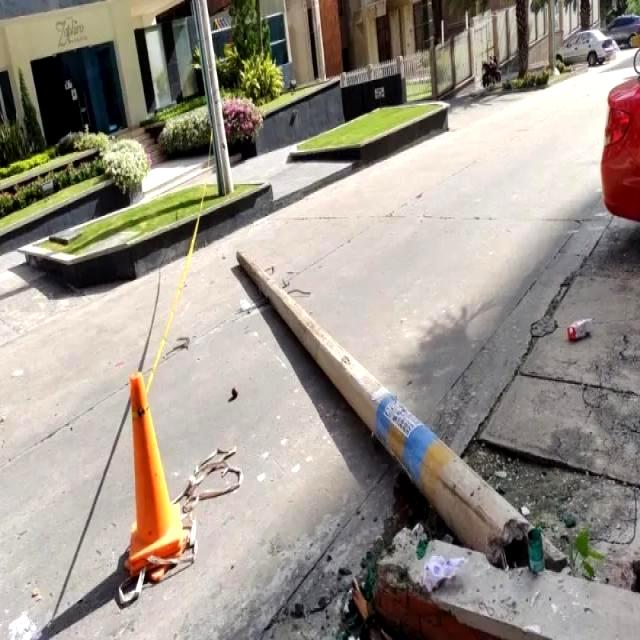Broken Pole: (213, 237, 552, 567)
